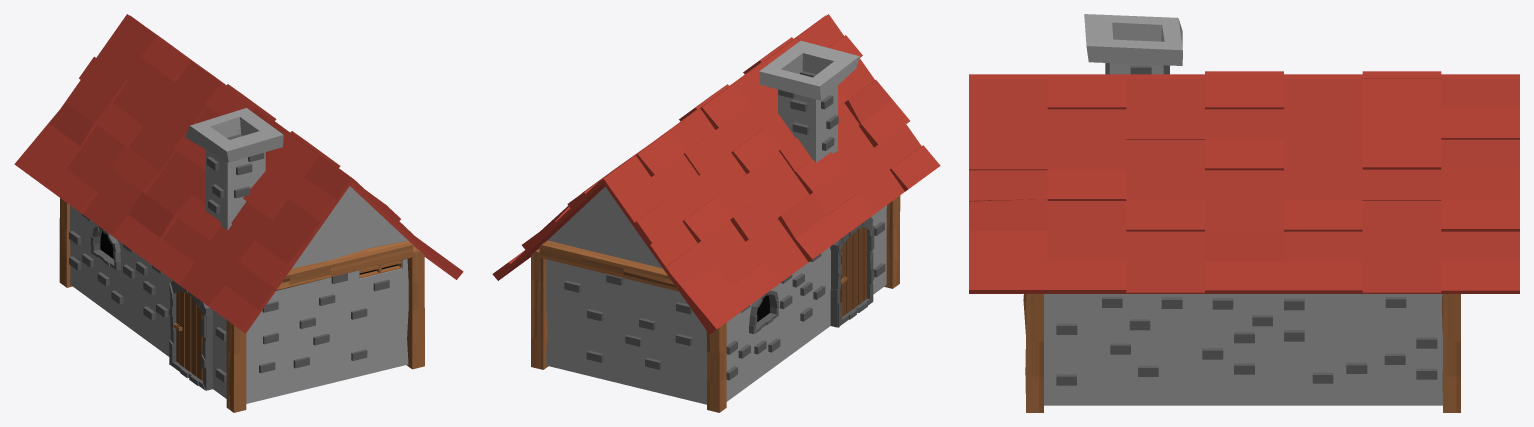
File: house medieval3.glb
3 views of the same model, side by side, from view 1: azimuth 30°, elevation 25°; view 2: azimuth 150°, elevation 25°; view 3: azimuth 270°, elevation 25° (orthographic). The views are drawn at different scales.
Parts seen in each view (by area): view 1: Roof-col, LowerFloor-col, Karkas-col, Chimney-col, Bricks, Door-col, Bricks.001; view 2: Roof-col, LowerFloor-col, Karkas-col, Chimney-col, Bricks, Door-col, Bricks.001; view 3: Roof-col, LowerFloor-col, Bricks, Chimney-col, Karkas-col.
Part boxes in pixels (<box>): Roof-col: <box>14,14,463,333</box>; LowerFloor-col: <box>70,186,413,403</box>; Karkas-col: <box>59,198,424,412</box>; Chimney-col: <box>185,108,283,230</box>; Bricks: <box>69,214,389,382</box>; Door-col: <box>176,290,202,380</box>; Bricks.001: <box>206,134,264,213</box>; Roof-col: <box>492,14,940,334</box>; LowerFloor-col: <box>546,186,886,404</box>; Karkas-col: <box>531,195,900,412</box>; Chimney-col: <box>759,40,859,162</box>; Bricks: <box>564,222,885,380</box>; Door-col: <box>840,227,866,316</box>; Bricks.001: <box>778,71,838,150</box>; Roof-col: <box>969,71,1519,293</box>; LowerFloor-col: <box>1044,294,1442,405</box>; Bricks: <box>1056,297,1437,385</box>; Chimney-col: <box>1084,14,1182,74</box>; Karkas-col: <box>1023,294,1460,412</box>.
Size of the model in its own units: 7.62 by 7.83 by 13.14.
